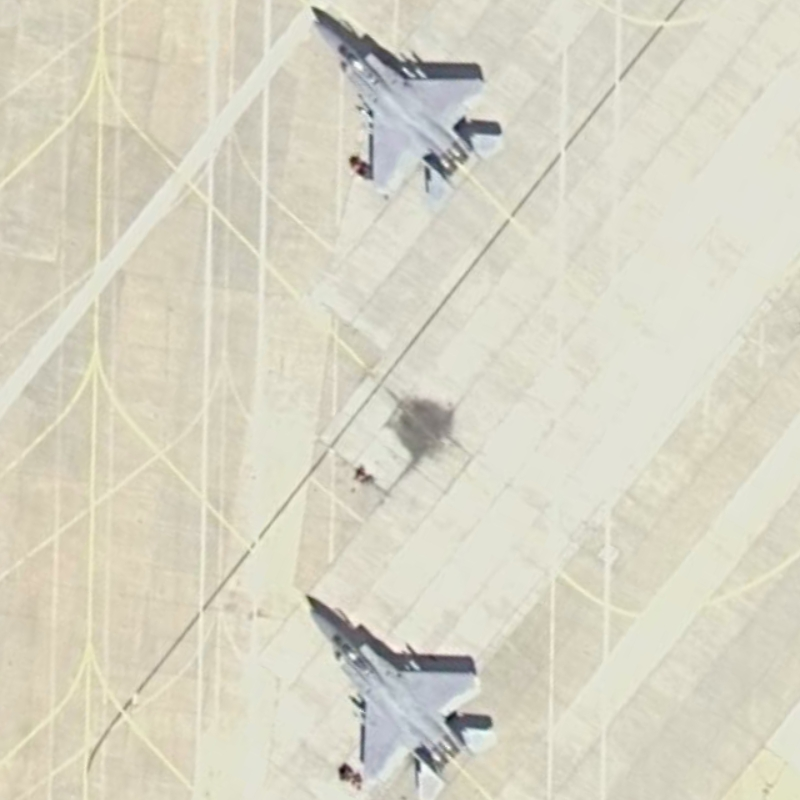A13: (297, 588, 504, 800), (304, 5, 515, 209)
